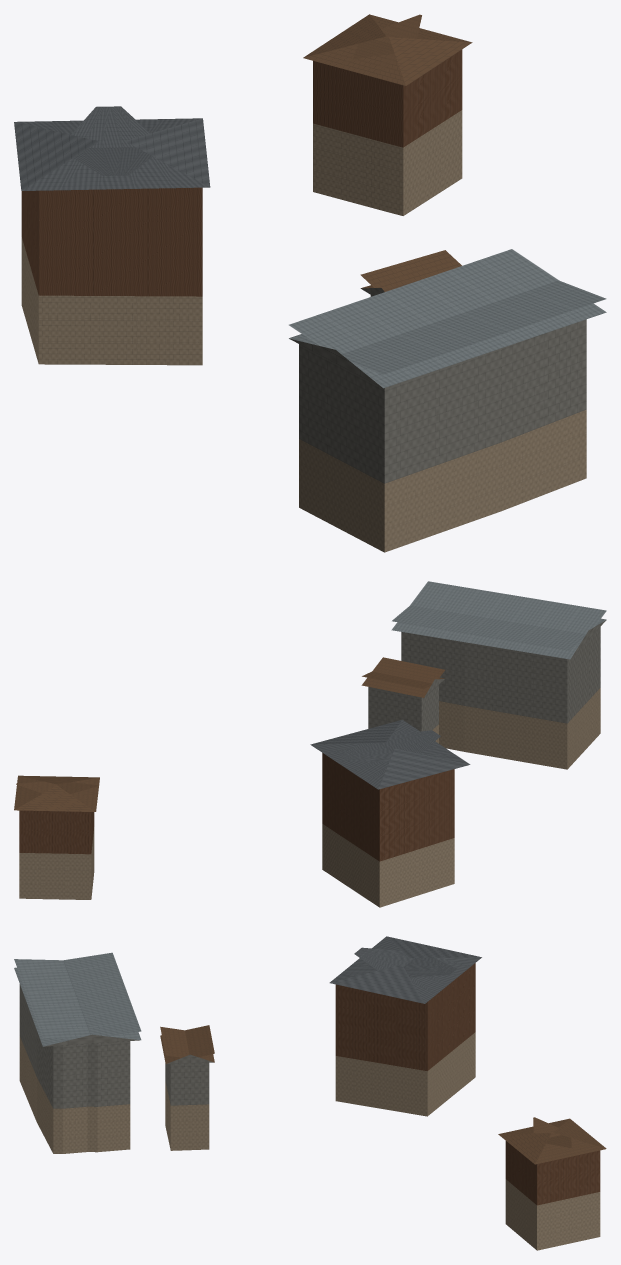
File: bld_c9_10_494.gltf
3 views of the same model, one above another, from view 1: azimuth 30°, elevation 25°; view 2: azimuth 150°, elevation 25°; view 3: azimuth 270°, elevation 25° (orthographic). The views are drawn at different scales.
Visible parts, largest first — view 1: bld_c9_10_494; view 2: bld_c9_10_494; view 3: bld_c9_10_494.
Part boxes in pixels (x1=…): bld_c9_10_494: x1=14, y1=14, x2=606, y2=552; bld_c9_10_494: x1=14, y1=581, x2=606, y2=907; bld_c9_10_494: x1=14, y1=936, x2=606, y2=1250.
Bounding box in the file's own units: 43.74 × 16.3 × 60.49.
7 materials, 7 textured.
